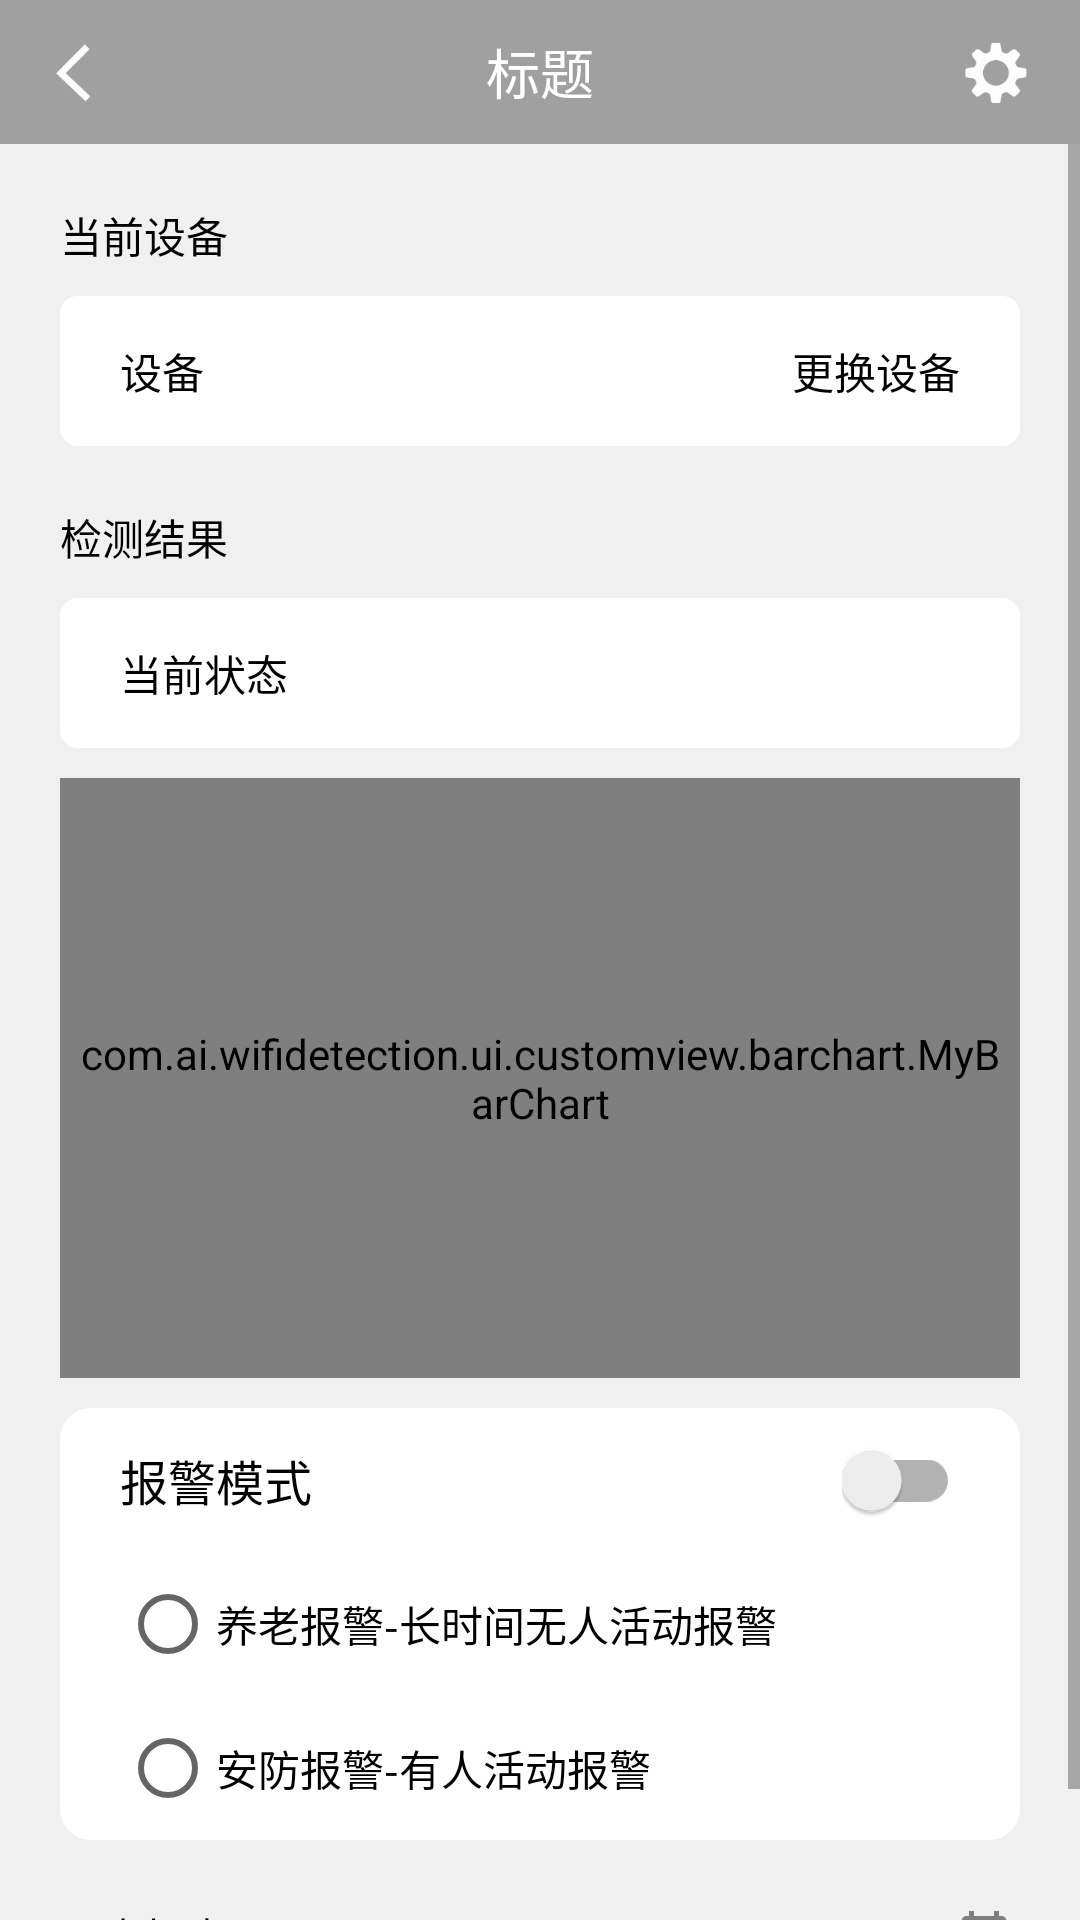

Icon bounding boxes for this 1080px×1920px phone screenshot, format (x1, y1, x2, y2):
back: (56, 44, 90, 101)
